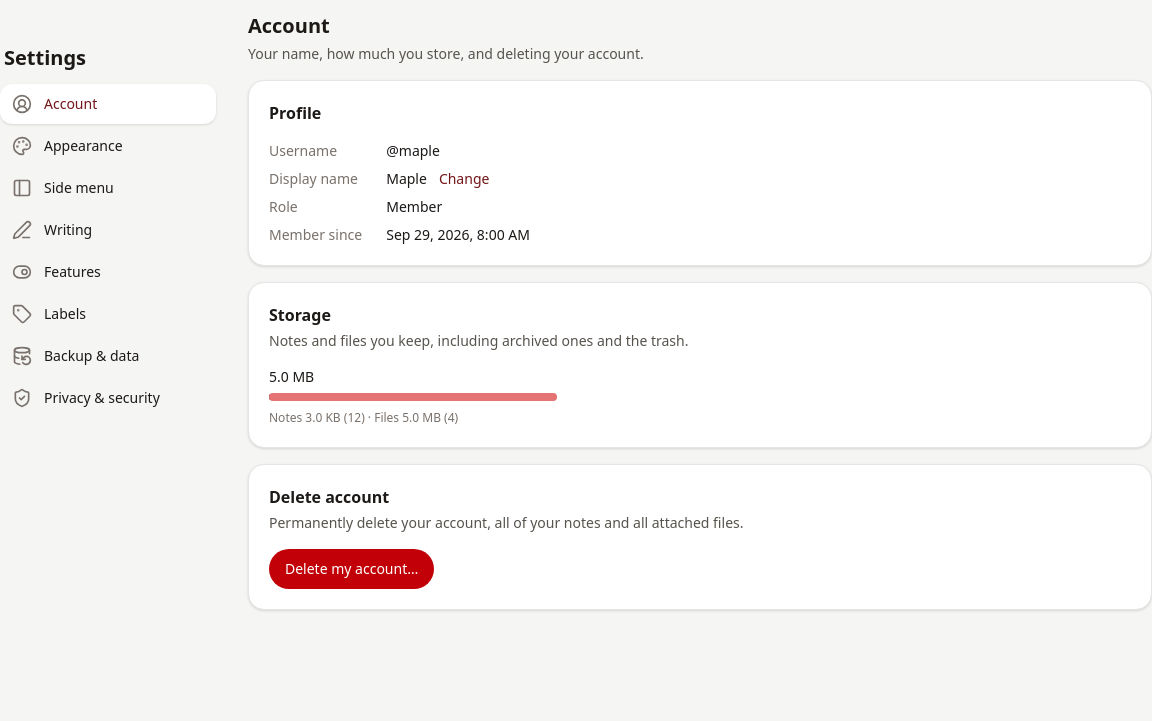
Scenario: Settings › lists its sections, shows Account first, and opens a section from the list
This screenshot has width=1152, height=721.
Expected: the heading "Settings" is shown, [4,44,86,71]
Expected: the heading "Profile" is shown, [269,102,321,124]
Click the link "Privacy & security": [86, 398] box [12,388,160,408]
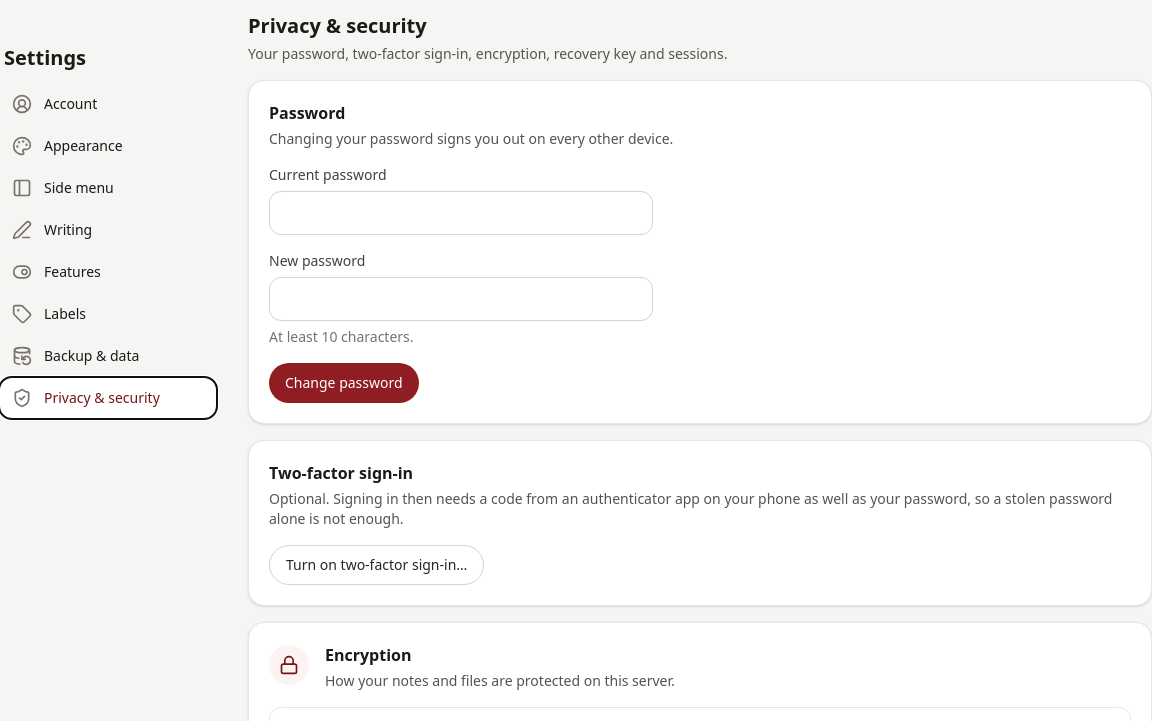
Expected: the heading "Privacy & security" is shown, [248,12,427,39]
Expected: the heading "Password" is shown, [269,102,345,124]
Expected: the heading "Two-factor sign-in" is shown, [269,462,413,484]
